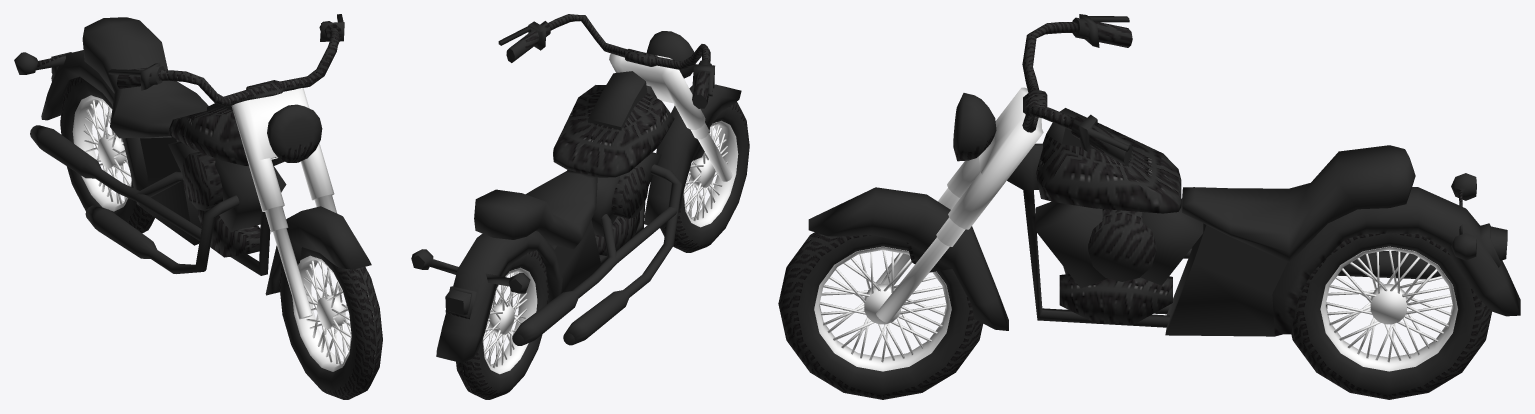
The model's file is mortocycle2.fbx.
The picture shows the model from 3 angles, left to right: view 1: azimuth 30°, elevation 25°; view 2: azimuth 150°, elevation 25°; view 3: azimuth 270°, elevation 25°; orthographic projection. The views are drawn at different scales.
Visible parts, largest first — view 1: Carrozeria.002, Llanta, Timon.002, Barras Delanteras, Llanta.002; view 2: Carrozeria.002, Timon.002, Llanta.002, Llanta, Barras Delanteras; view 3: Carrozeria.002, Llanta.002, Llanta, Timon.002, Barras Delanteras.
Boxes of the visible parts, box(x1,y1,x2,y2) form: Carrozeria.002: box(14, 17, 286, 275); Llanta: box(279, 247, 382, 399); Timon.002: box(108, 14, 371, 295); Barras Delanteras: box(231, 88, 337, 319); Llanta.002: box(60, 76, 154, 233); Carrozeria.002: box(411, 71, 681, 362); Timon.002: box(498, 14, 741, 228); Llanta.002: box(456, 250, 548, 399); Llanta: box(660, 102, 749, 252); Barras Delanteras: box(609, 49, 732, 181); Carrozeria.002: box(1007, 108, 1520, 336); Llanta.002: box(1291, 234, 1492, 399); Llanta: box(778, 232, 982, 399); Timon.002: box(808, 14, 1132, 330); Barras Delanteras: box(876, 87, 1043, 322).
Bounding box in the file's own units: 7671 × 9046 × 18288.
Materials: 4 (3 with a texture image).
